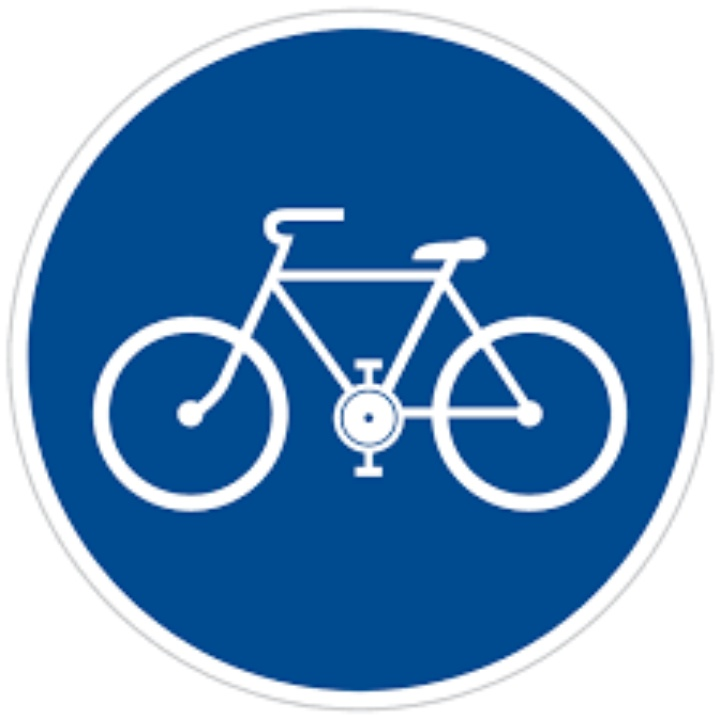bicycle: (53, 1, 702, 649)
